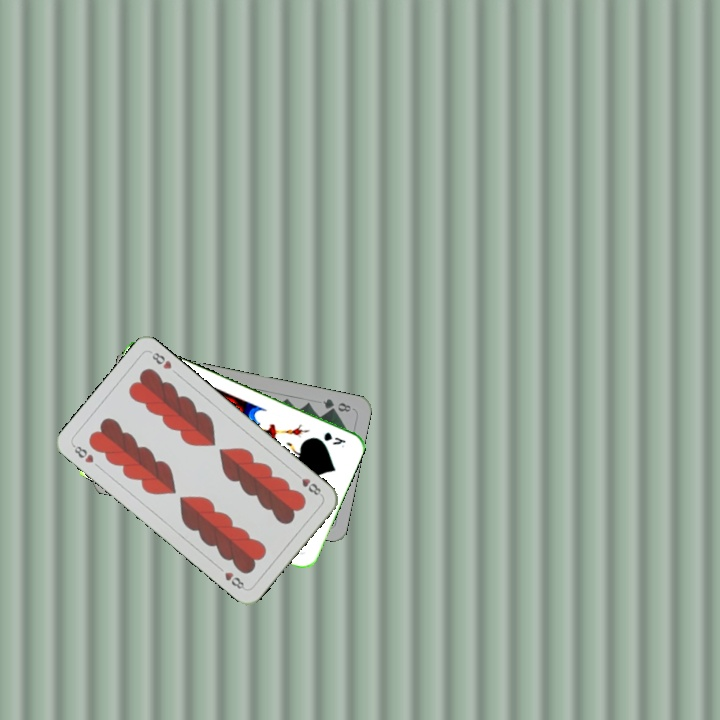G8: (319, 394, 354, 414)
GK: (320, 428, 348, 450)
H8: (291, 469, 325, 499), (69, 440, 96, 466)
